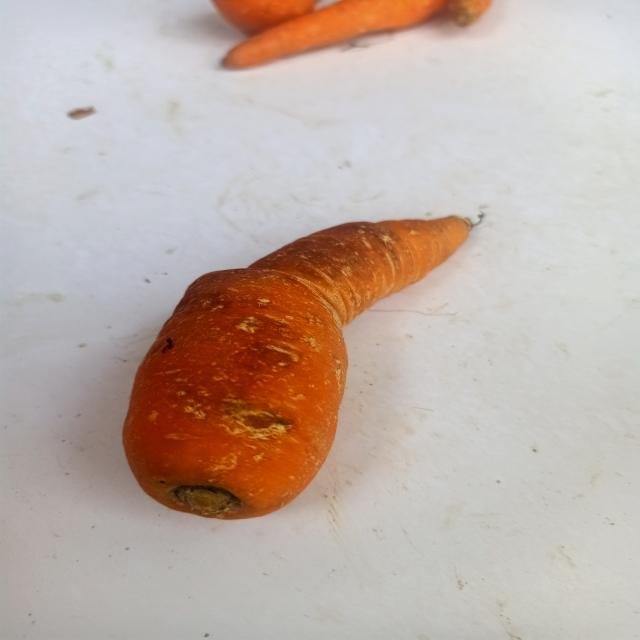Carrot: (97, 204, 492, 528)
